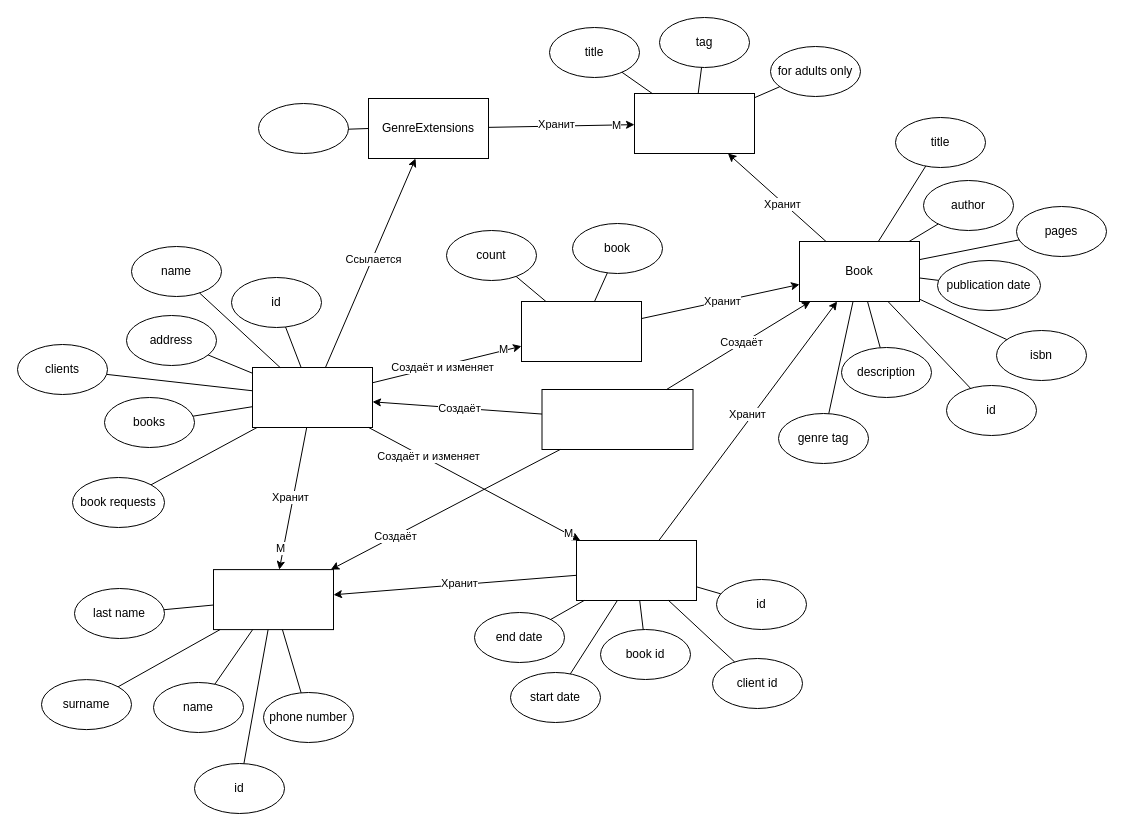
Image size: 1124x831. Some labels were removed from this diagram. The shapes that lost their labels are listed below. From the top down, each one's centre as x and y in pixels, then its label:
At (x=303, y=128): "genres".
At (x=694, y=123): "Genre".
At (x=581, y=331): "BookInArchive".
At (x=312, y=397): "Library".
At (x=617, y=419): "ConstructorExtensions".
At (x=636, y=570): "BookRequest".
At (x=273, y=599): "Client".
